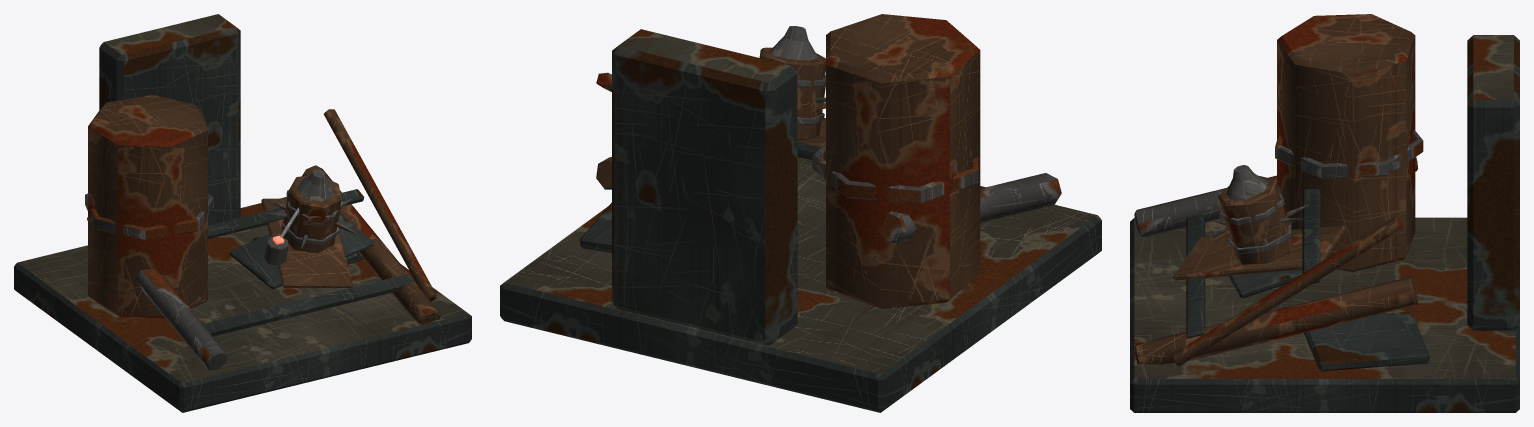
The model's file is R4X_ExplosiveTrapDeployer_LOD1.glb.
3 views of the same model, side by side, from view 1: azimuth 30°, elevation 25°; view 2: azimuth 150°, elevation 25°; view 3: azimuth 270°, elevation 25° (orthographic). The views are drawn at different scales.
Parts seen in each view (by area): view 1: R4X_ExplosiveTrapDeployer_LOD1; view 2: R4X_ExplosiveTrapDeployer_LOD1; view 3: R4X_ExplosiveTrapDeployer_LOD1.
Part boxes in pixels (bbox=[...]): R4X_ExplosiveTrapDeployer_LOD1: bbox=[14, 14, 471, 412]; R4X_ExplosiveTrapDeployer_LOD1: bbox=[500, 14, 1101, 412]; R4X_ExplosiveTrapDeployer_LOD1: bbox=[1130, 14, 1519, 412].
Bounding box in the file's own units: 0.52 × 0.39 × 0.52.
Materials: 6 (5 with a texture image).
